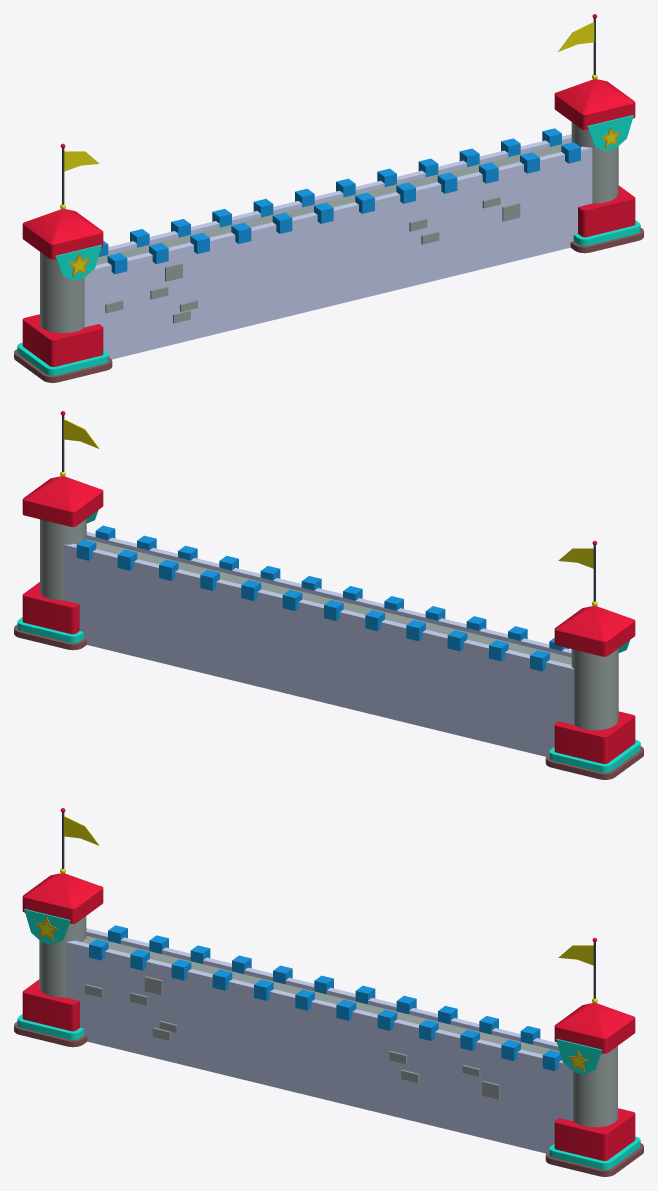
Rendered from Wall1.4.fbx.
The picture shows the model from 3 angles, top to bottom: view 1: azimuth 30°, elevation 25°; view 2: azimuth 150°, elevation 25°; view 3: azimuth 330°, elevation 25°; orthographic projection.
Visible parts, largest first — view 1: Cube.032; view 2: Cube.032; view 3: Cube.032.
Part boxes in pixels (box(x1,y1,x2,y2)): Cube.032: box(14, 14, 643, 382); Cube.032: box(14, 411, 643, 779); Cube.032: box(14, 808, 643, 1176).
Size of the model in its own units: 600 by 209 by 67.55.
